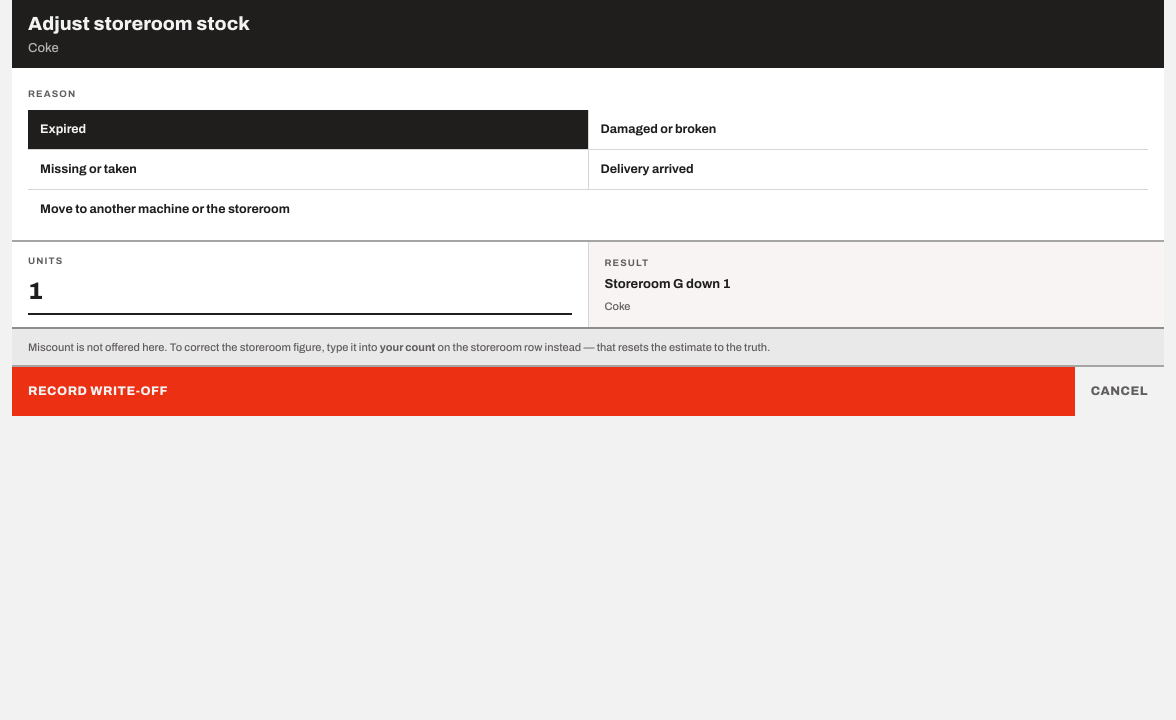
Test: AdjustmentSheet — §7 layout › names the reason on the commit button
Expected: the button "Record write-off" is shown, [12,367,1075,416]
Click the button "Delivery arrived" at (647, 169), box [588,150,1148,189]
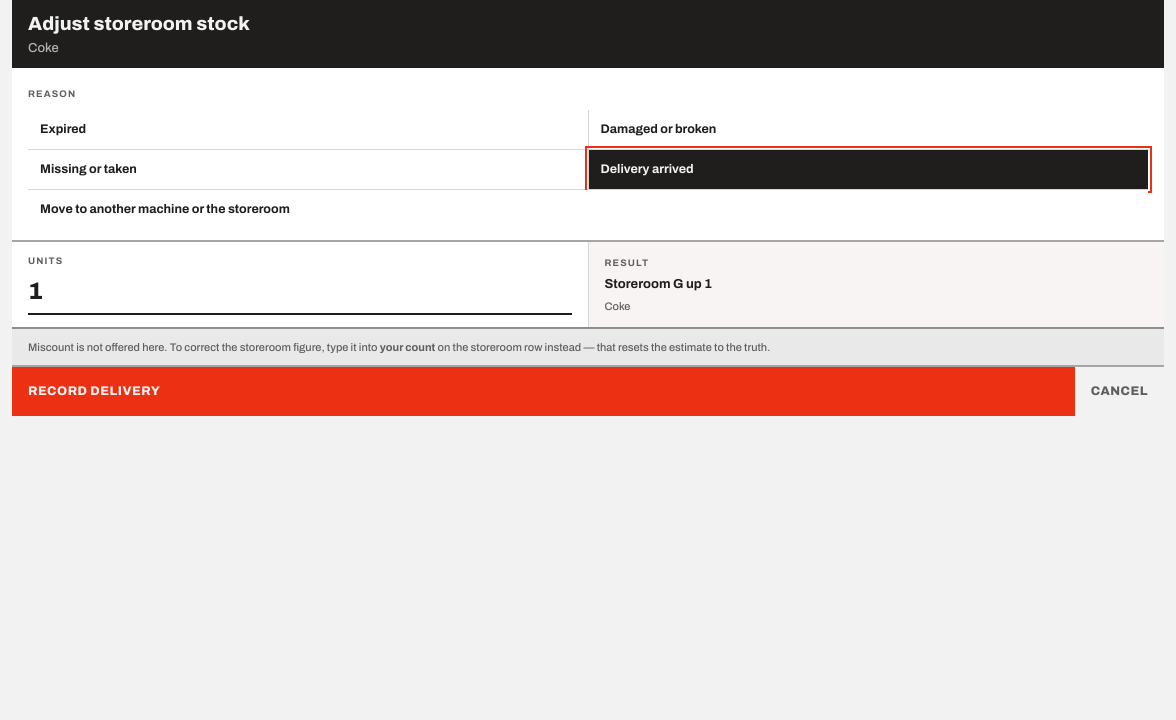
Now the button "Record delivery" is shown, box [12,367,1075,416]
Click the button "Move to another machine or the storeroom" at (165, 208), box [28,190,1148,228]
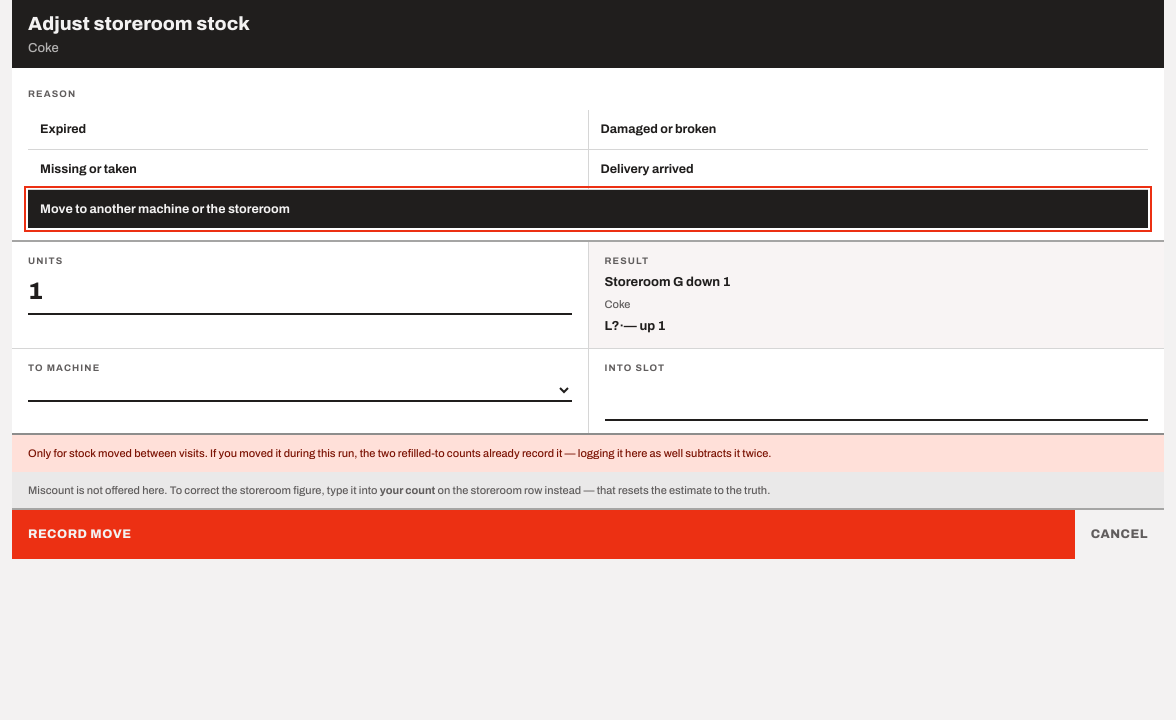
Now the button "Record move" is shown, box [12,510,1075,559]
